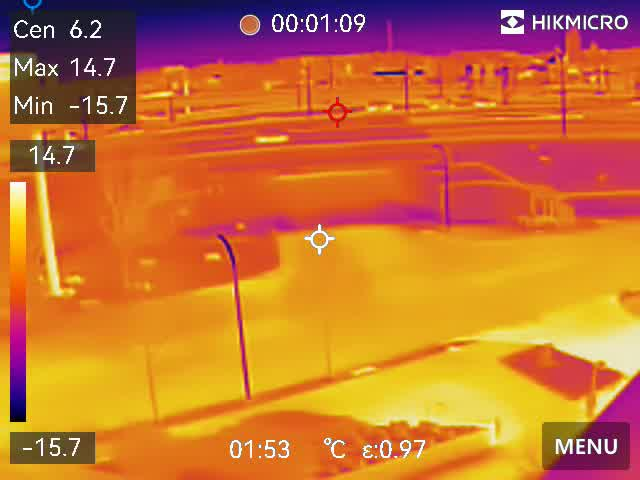vehicle: (248, 125, 294, 149), (468, 95, 502, 113), (367, 100, 400, 117)
